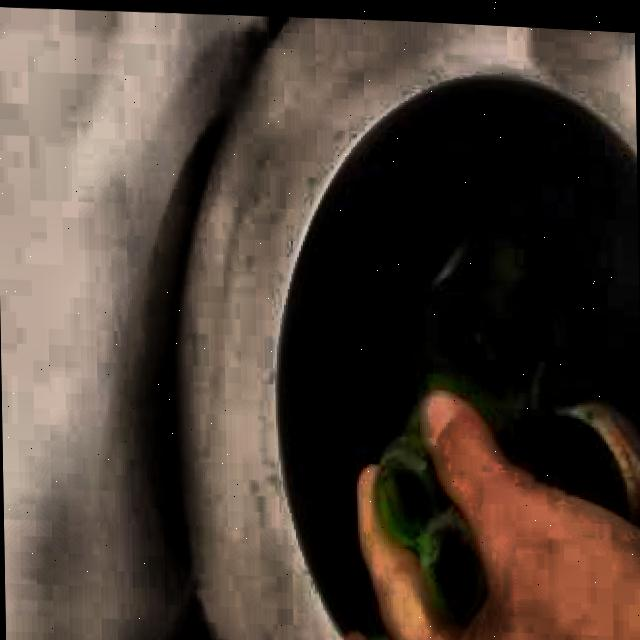glass: (426, 227, 640, 520), (376, 402, 487, 619)
